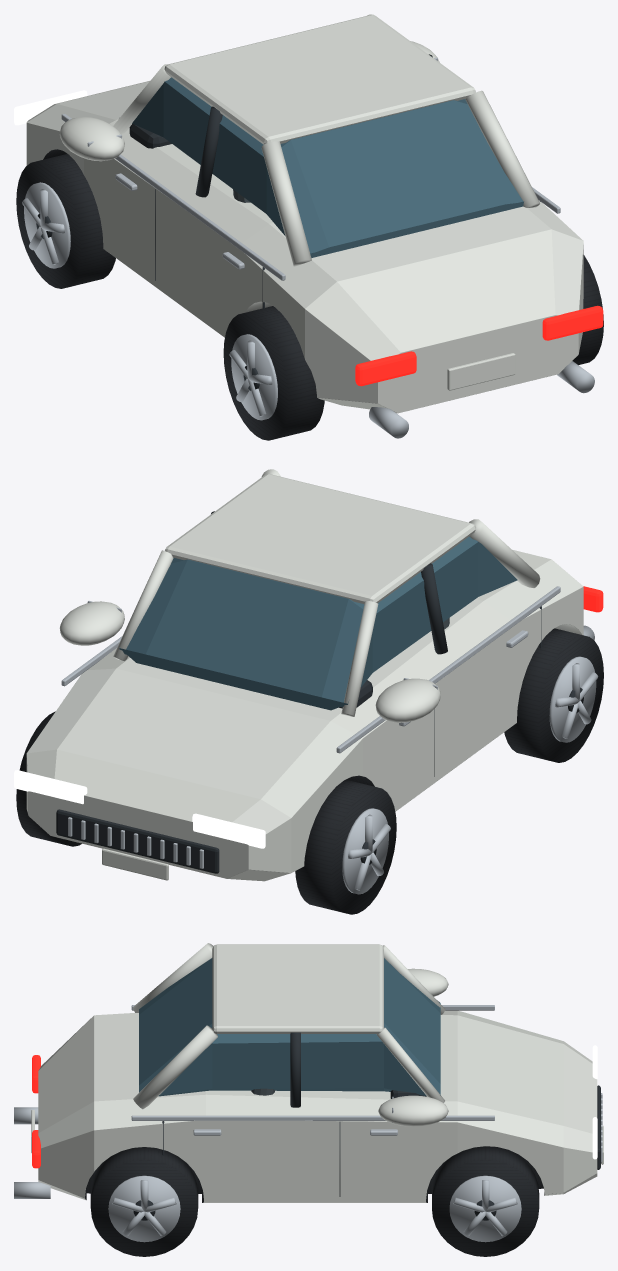
File: mc_compact.glb
The picture shows the model from 3 angles, top to bottom: view 1: azimuth 30°, elevation 25°; view 2: azimuth 150°, elevation 25°; view 3: azimuth 270°, elevation 25°; orthographic projection. The views are drawn at different scales.
Visible parts, largest first — view 1: mc_compact__Geometry, mc_compact__Wheel_L, mc_compact__Wheel_L.001, mc_compact__Wheel_R; view 2: mc_compact__Geometry, mc_compact__Wheel_L.001, mc_compact__Wheel_L, mc_compact__Wheel_R.001; view 3: mc_compact__Geometry, mc_compact__Wheel_R.001, mc_compact__Wheel_R.
Boxes of the visible parts, x1,y1,x2,y2 form: mc_compact__Geometry: (14, 14, 603, 438); mc_compact__Wheel_L: (223, 306, 324, 440); mc_compact__Wheel_L.001: (16, 154, 115, 288); mc_compact__Wheel_R: (572, 255, 603, 364); mc_compact__Geometry: (14, 469, 603, 894); mc_compact__Wheel_L.001: (295, 779, 396, 914); mc_compact__Wheel_L: (504, 628, 603, 762); mc_compact__Wheel_R.001: (16, 711, 81, 846); mc_compact__Geometry: (14, 943, 603, 1242); mc_compact__Wheel_R.001: (432, 1146, 539, 1256); mc_compact__Wheel_R: (90, 1147, 198, 1256).
Size of the model in its own units: 2.36 by 1.56 by 4.01.
8 materials, 2 textured.
